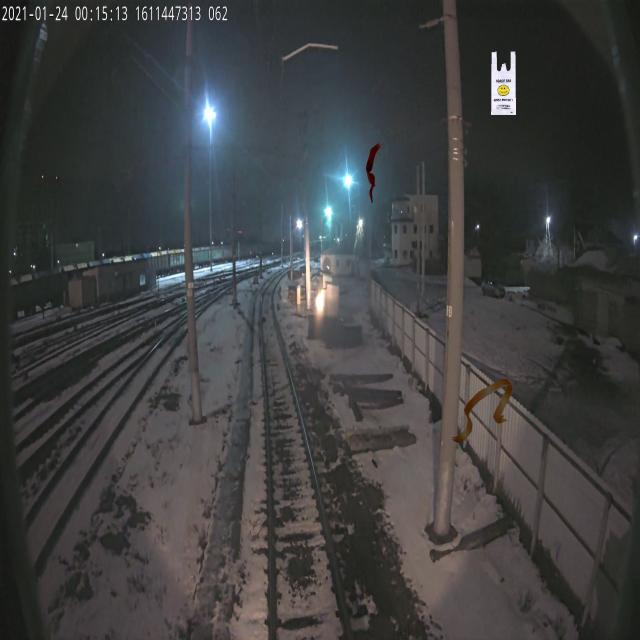floating object: (452, 378, 514, 442), (366, 138, 382, 202)
plastic bag: (491, 51, 516, 115)
